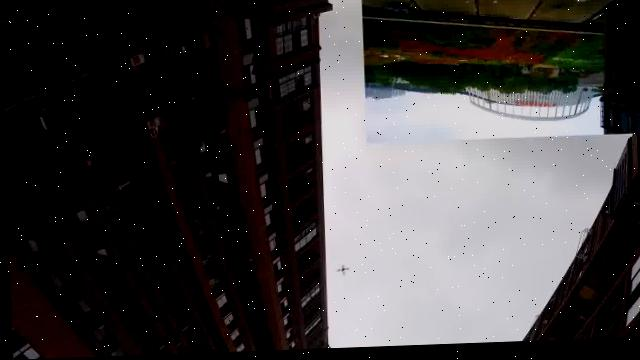drone: (323, 255, 364, 293)
